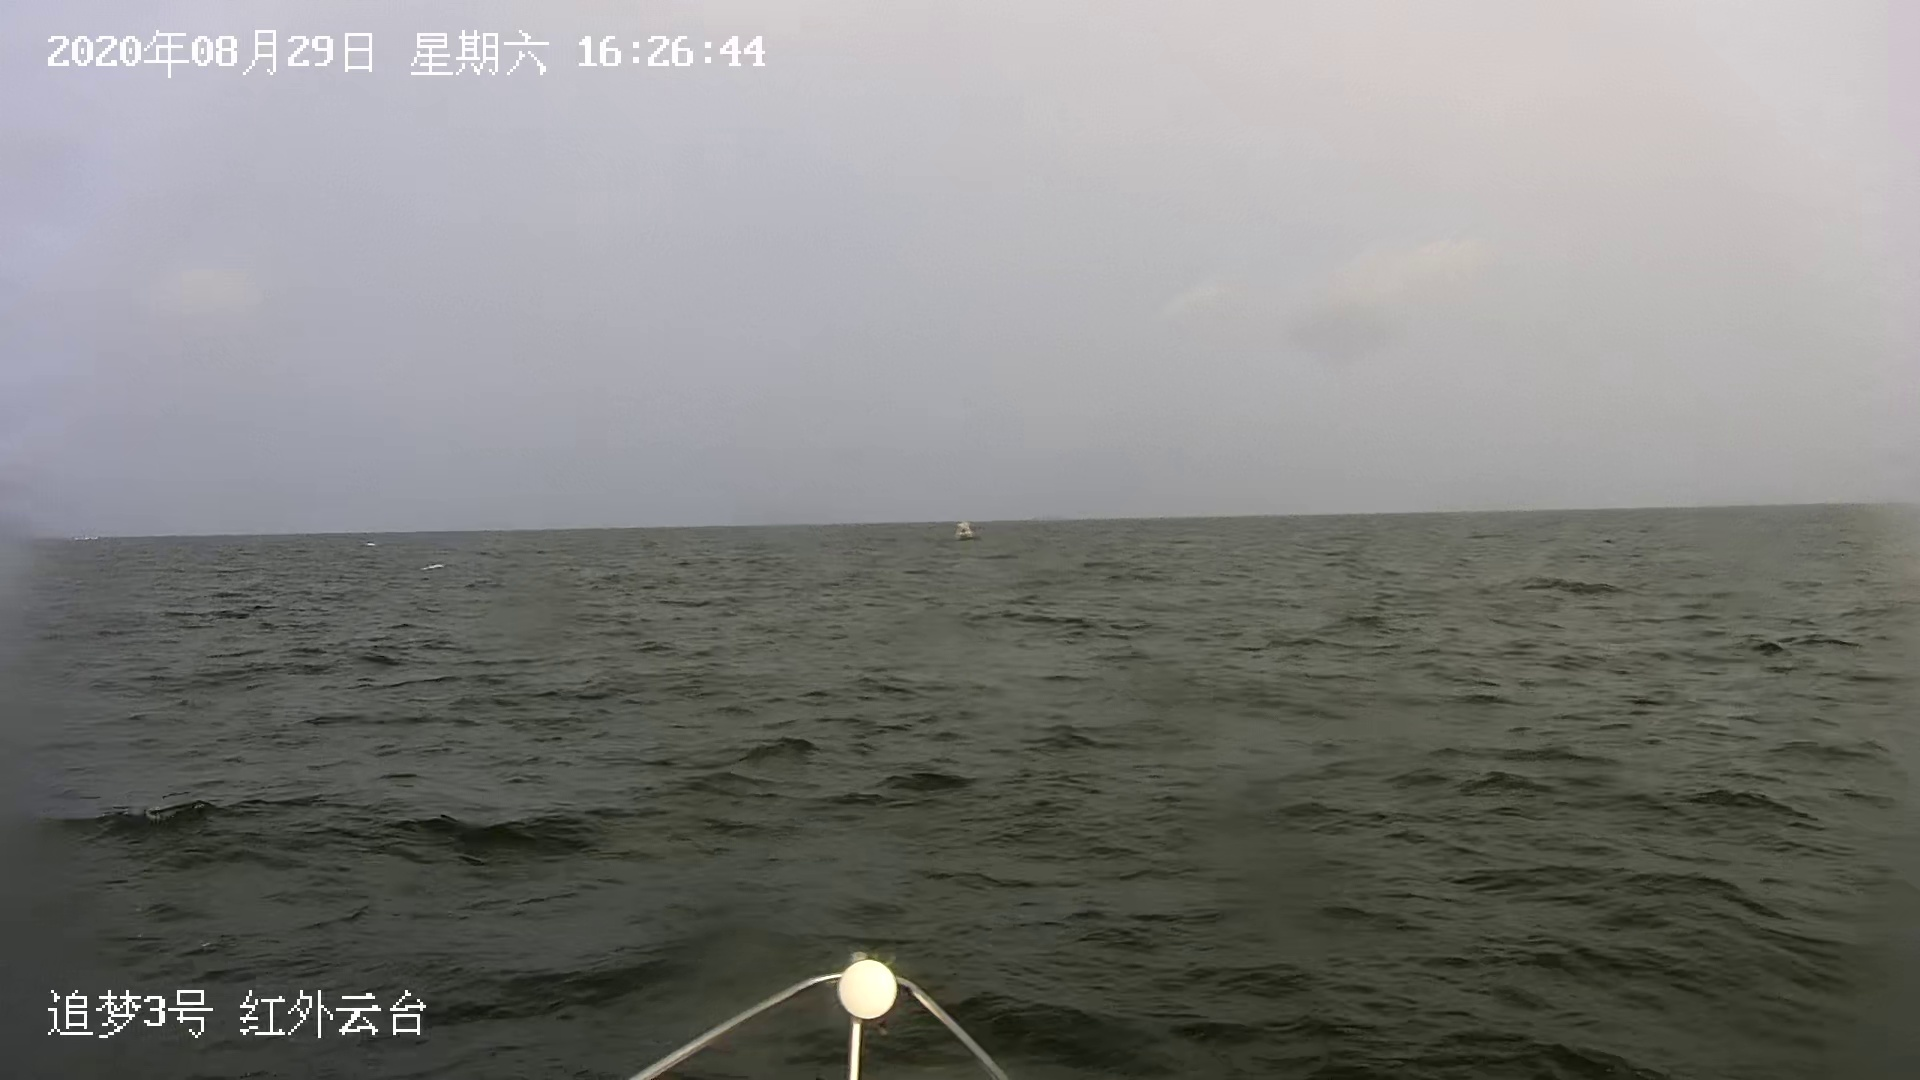barrier: (948, 524, 981, 543)
